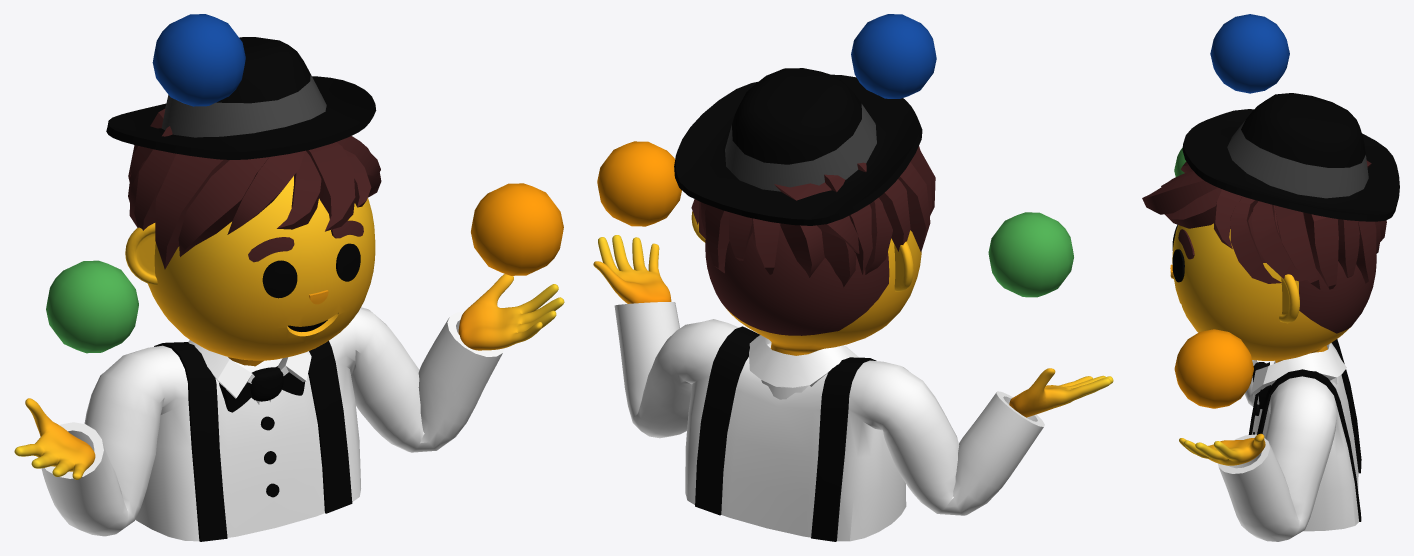
The model's file is person_juggling.fbx.
3 renders of one model, left to right at view 1: azimuth 30°, elevation 25°; view 2: azimuth 150°, elevation 25°; view 3: azimuth 270°, elevation 25°, orthographic. The views are drawn at different scales.
Visible parts, largest first — view 1: Circle.2176, Roundcube.503, Cube.333, Cube.336, Plane.195, Circle.2183, hand.020, hand.018, Plane.194, Circle.2184, Cylinder.027, Circle.2186 (+2 smaller); view 2: Circle.2176, Plane.195, Cube.333, Roundcube.503, Cube.336, Circle.2183, Plane.194, hand.020, hand.018, Cylinder.027; view 3: Plane.195, Circle.2176, Roundcube.503, Cube.336, Cube.333, Circle.2183, Plane.194, hand.020, Cylinder.027, Circle.2184.
Boxes of the visible parts, x1=… form: Circle.2176: x1=41, y1=307, x2=504, y2=541; Roundcube.503: x1=147, y1=176, x2=375, y2=366; Cube.333: x1=46, y1=14, x2=563, y2=353; Cube.336: x1=128, y1=109, x2=381, y2=269; Plane.195: x1=106, y1=37, x2=376, y2=159; Circle.2183: x1=154, y1=341, x2=352, y2=541; hand.020: x1=458, y1=274, x2=564, y2=350; hand.018: x1=14, y1=398, x2=95, y2=479; Plane.194: x1=188, y1=340, x2=311, y2=404; Circle.2184: x1=262, y1=243, x2=360, y2=298; Cylinder.027: x1=125, y1=223, x2=157, y2=285; Circle.2186: x1=248, y1=220, x2=363, y2=262; Circle.2176: x1=614, y1=302, x2=1044, y2=541; Plane.195: x1=674, y1=68, x2=922, y2=225; Cube.333: x1=597, y1=14, x2=1073, y2=297; Roundcube.503: x1=705, y1=226, x2=921, y2=355; Cube.336: x1=691, y1=146, x2=935, y2=287; Circle.2183: x1=695, y1=326, x2=876, y2=541; Plane.194: x1=749, y1=335, x2=858, y2=399; hand.020: x1=593, y1=235, x2=671, y2=303; hand.018: x1=1009, y1=368, x2=1113, y2=417; Cylinder.027: x1=691, y1=211, x2=913, y2=291; Plane.195: x1=1182, y1=93, x2=1399, y2=221; Circle.2176: x1=1218, y1=360, x2=1358, y2=541; Roundcube.503: x1=1172, y1=205, x2=1376, y2=362; Cube.336: x1=1142, y1=160, x2=1386, y2=289; Cube.333: x1=1174, y1=14, x2=1289, y2=408; Circle.2183: x1=1248, y1=339, x2=1361, y2=521; Plane.194: x1=1251, y1=343, x2=1346, y2=394; hand.020: x1=1179, y1=433, x2=1265, y2=465; Cylinder.027: x1=1279, y1=274, x2=1299, y2=323; Circle.2184: x1=1172, y1=224, x2=1184, y2=282.
Bounding box in the file's own units: 234 × 215 × 112.
2 materials, 2 textured.
